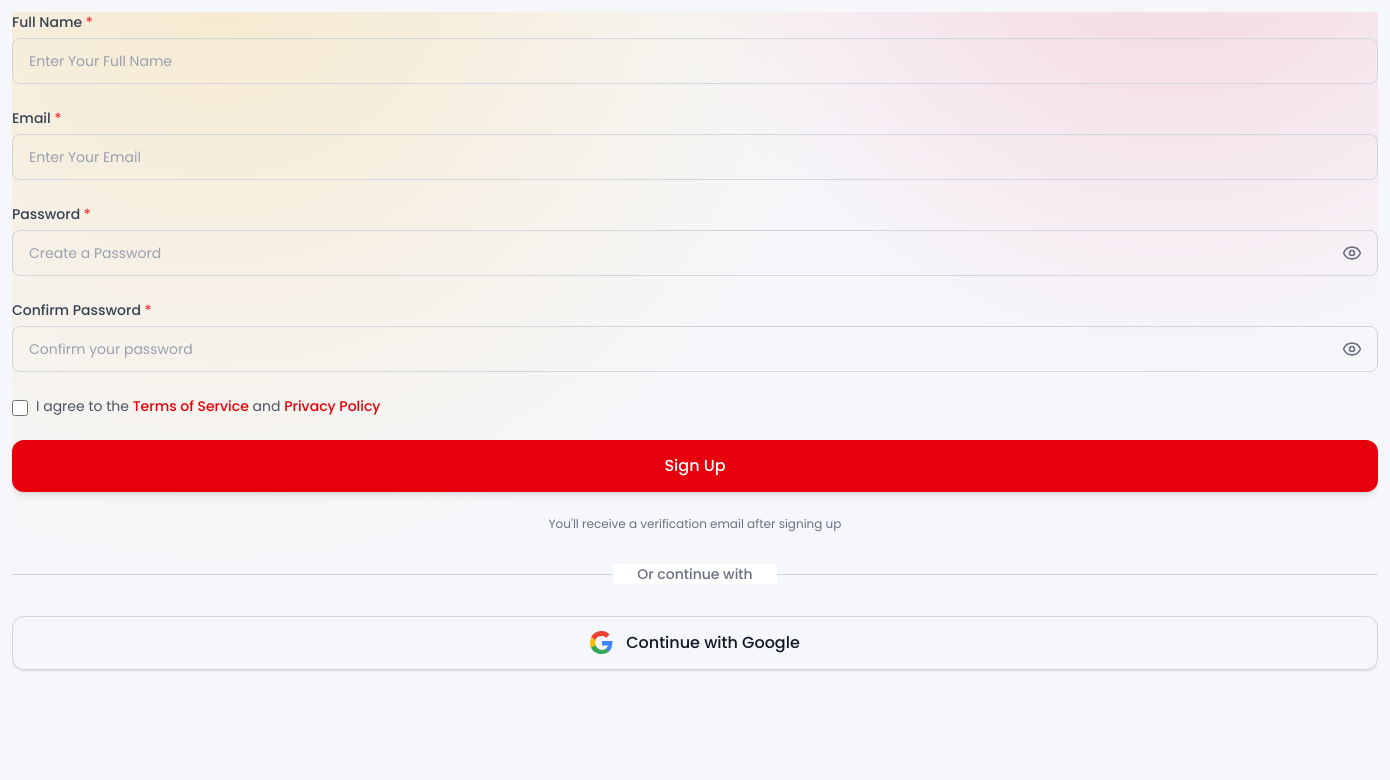
Test case: SignupForm › shows validation error for invalid email
Type "Test User" into the field with placeholder "Enter Your Full Name" at (695, 61), box [12, 38, 1378, 84]
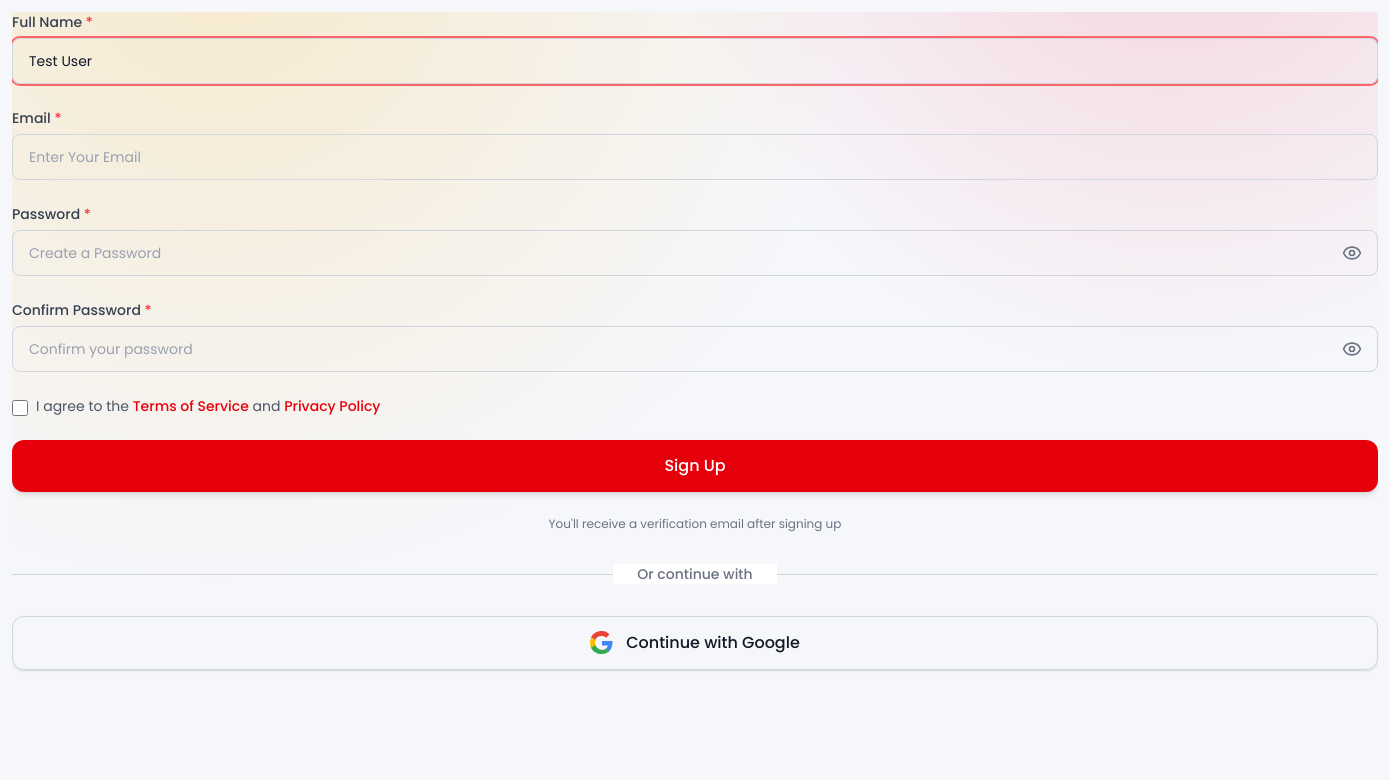
Type "bademail" into the field with placeholder "Enter Your Email" at (695, 157), box [12, 134, 1378, 180]
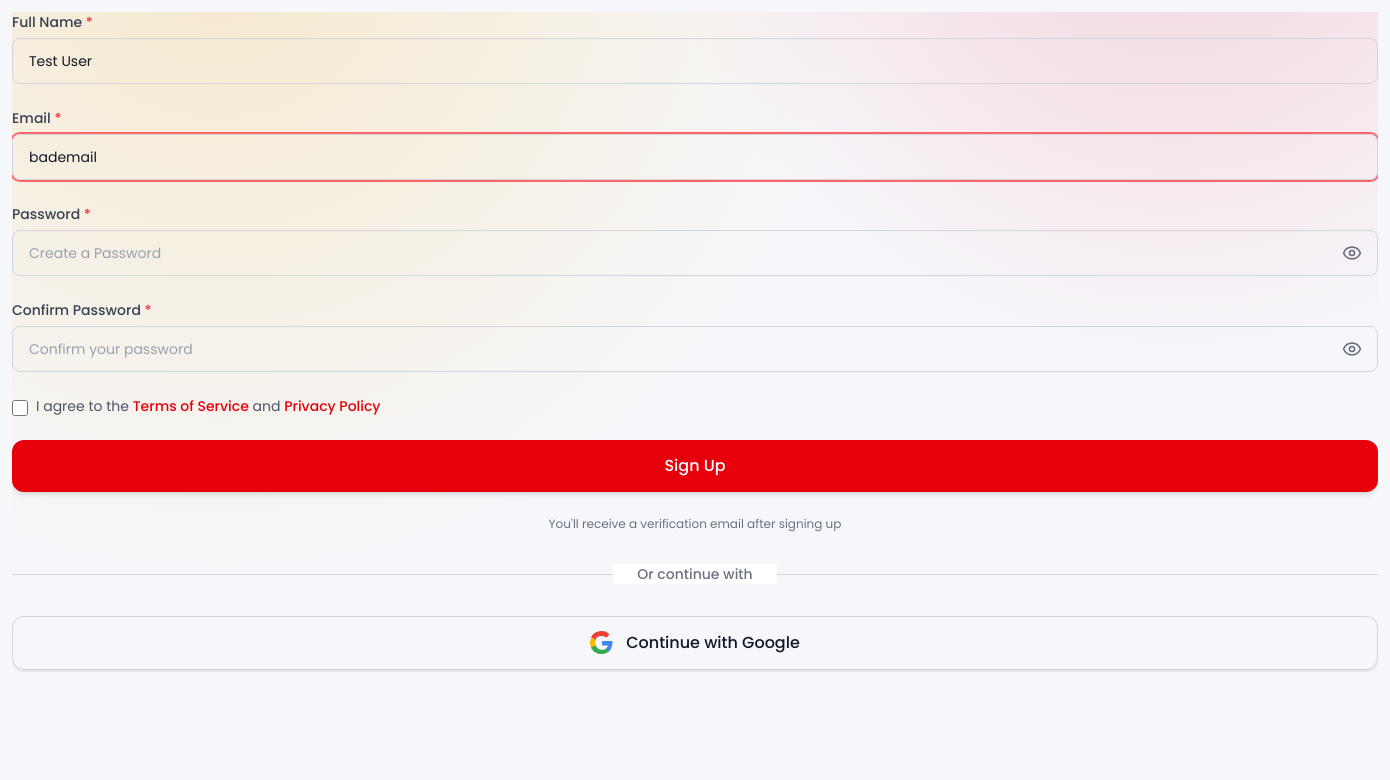
Click the button "Sign Up" at (695, 466), box [12, 440, 1378, 492]
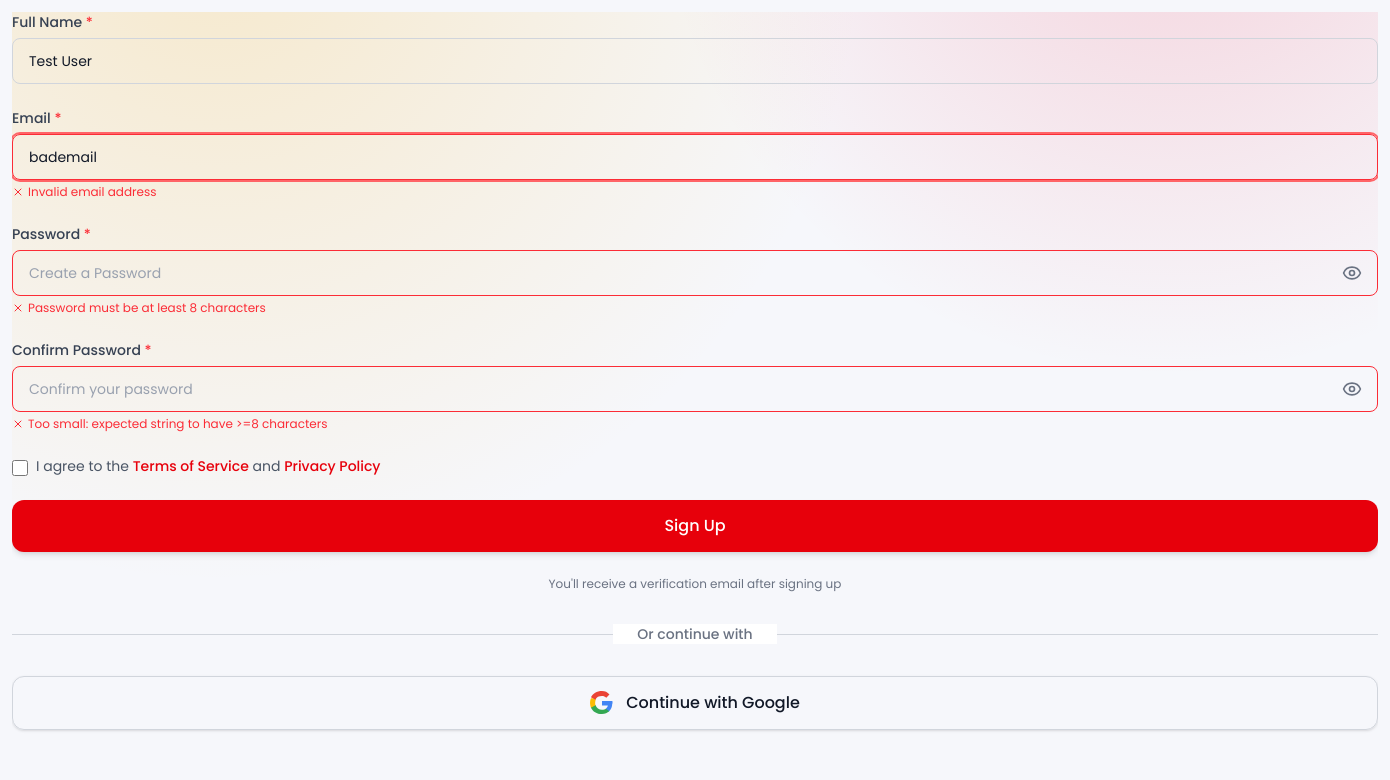
Result: the text "Invalid email address" is shown at [12, 183, 156, 200]
